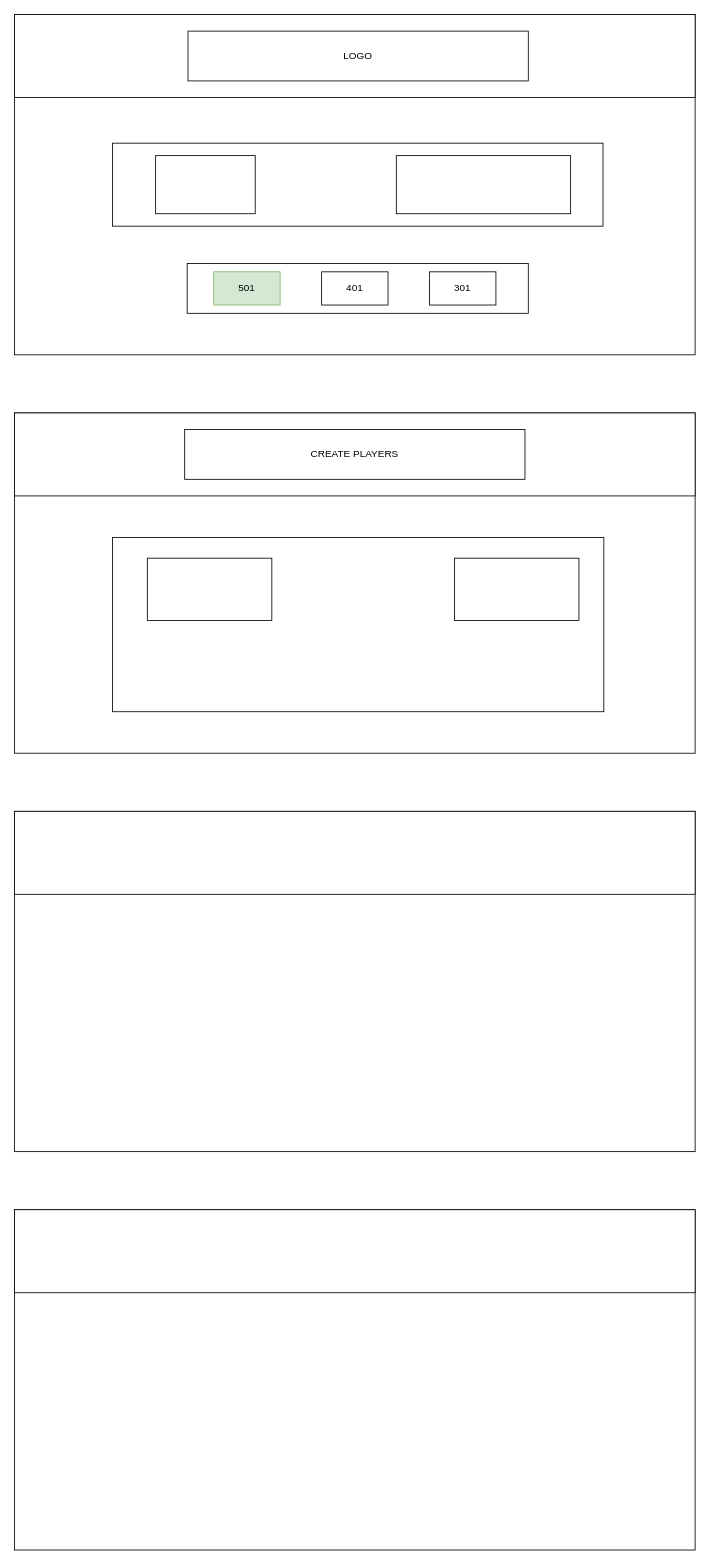
Image size: 710x1565. Some labels were removed from this diagram. The box of each missing label's shape, as (x1, y1, x2, y2) in pixels:
1 V 1: (155, 155, 255, 214)
Start Game: (395, 155, 571, 214)
